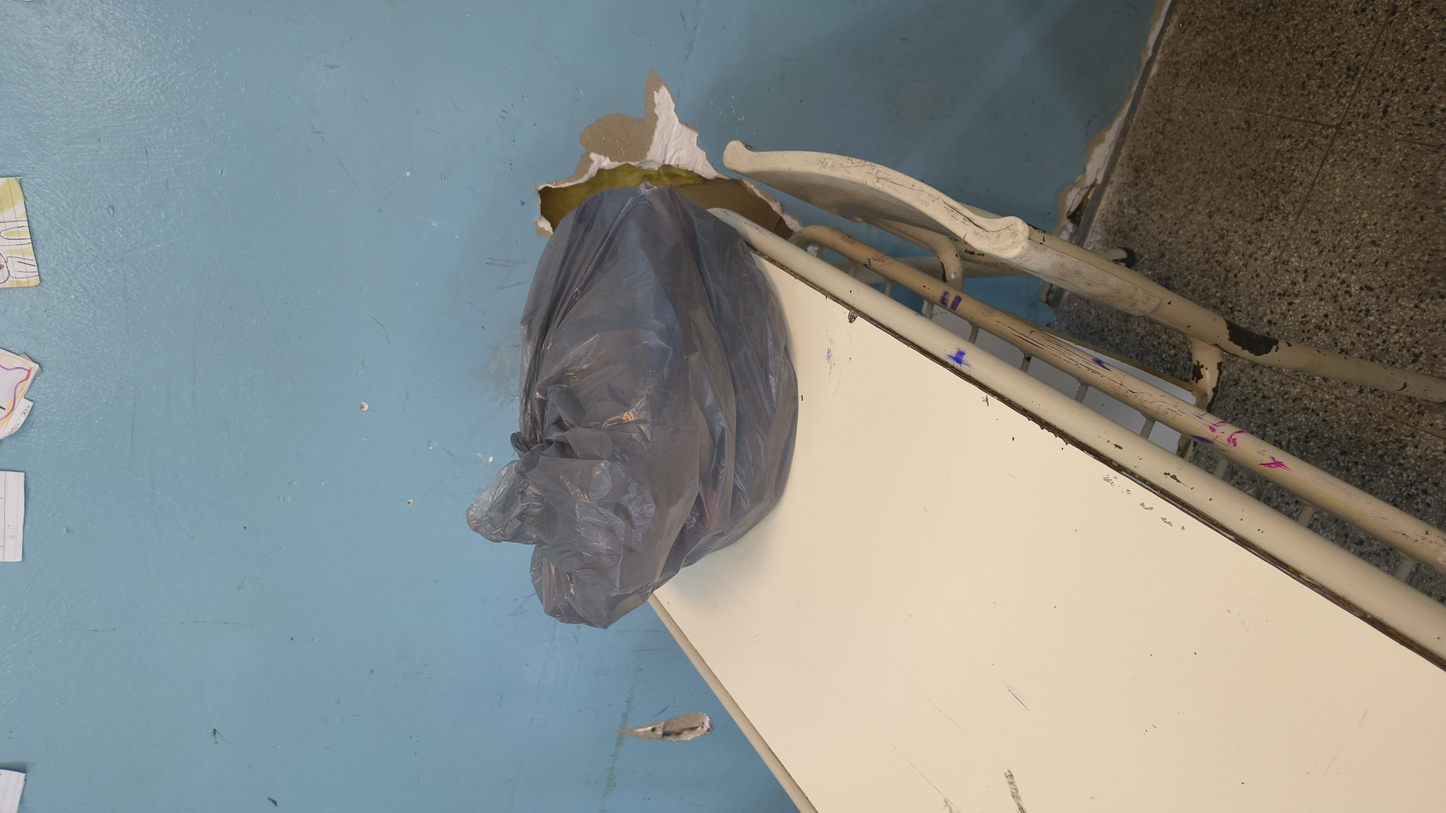Garbage: (270, 248, 1236, 474)
